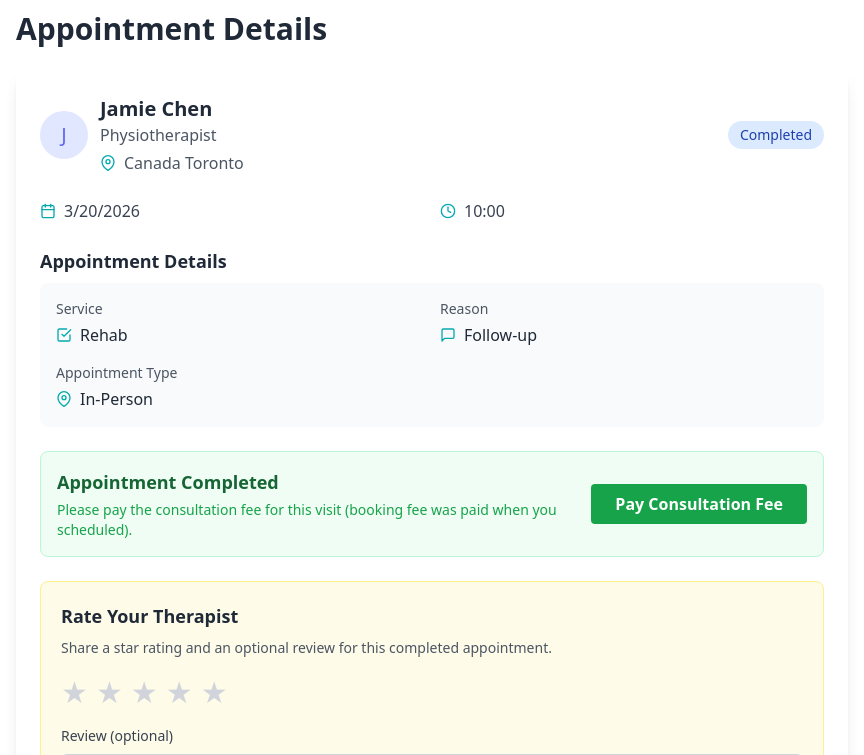
Test: Patient appointment details › submits a rating and then shows the saved review
The image size is (864, 755).
Click the button named "Select rating star" at (214, 692), box [201,674,228,710]
(page scrolled)
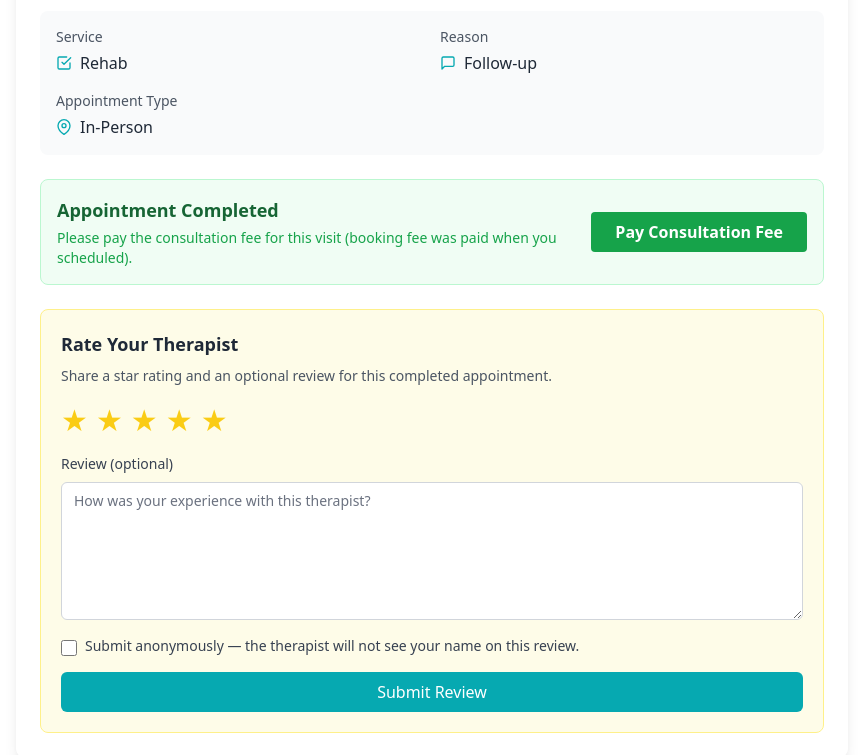
Type "Excellent therapist" into the text box labelled "Review (optional)" at (432, 551), box [61,482,803,620]
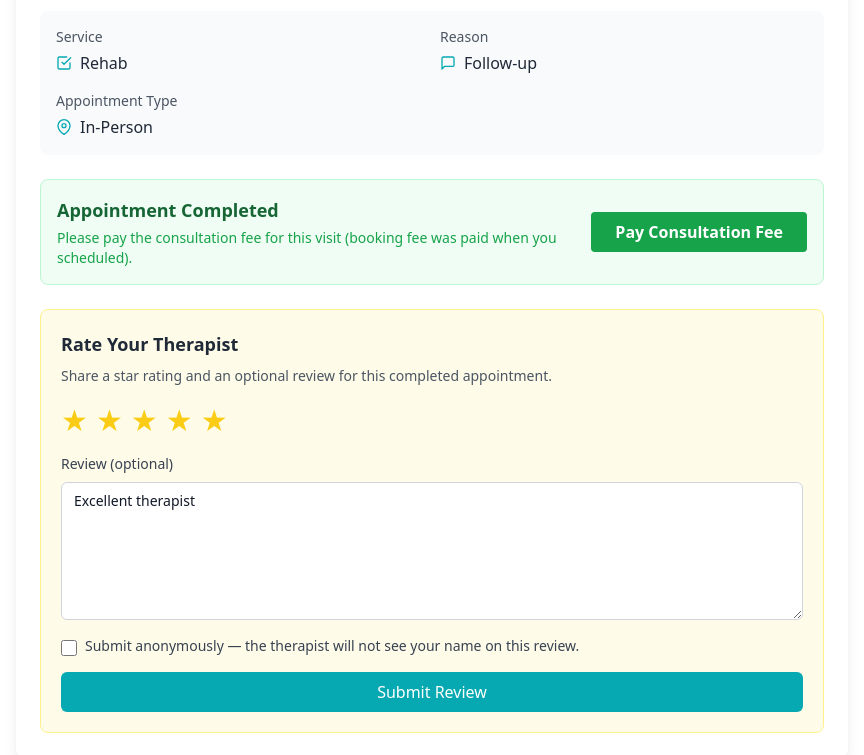
Click the button "Submit Review" at (432, 692), box [61,672,803,712]
(page scrolled)
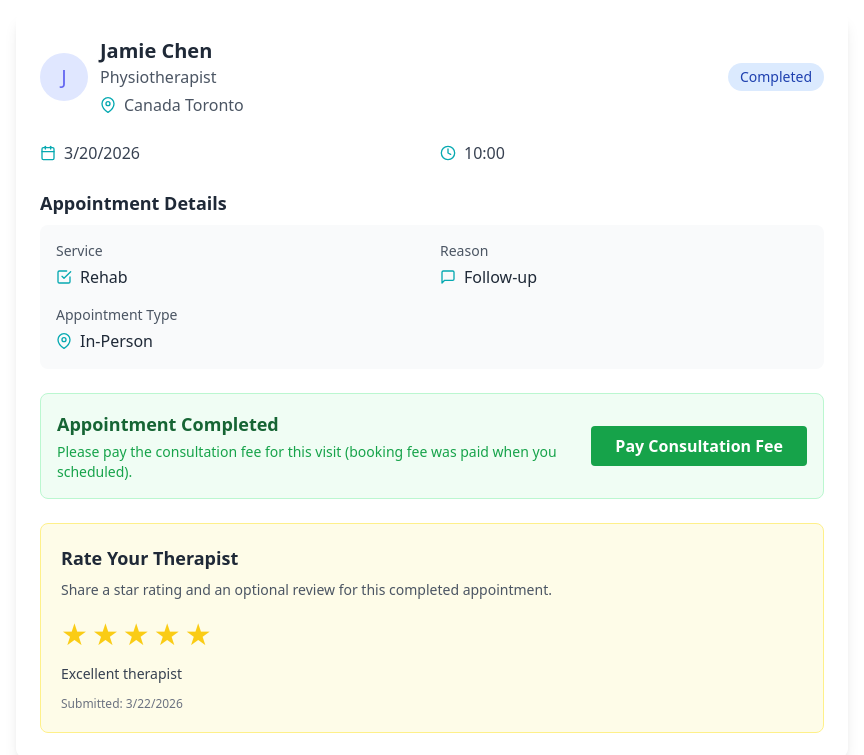
Expected: the text "Excellent therapist" is shown, [61,664,182,683]
